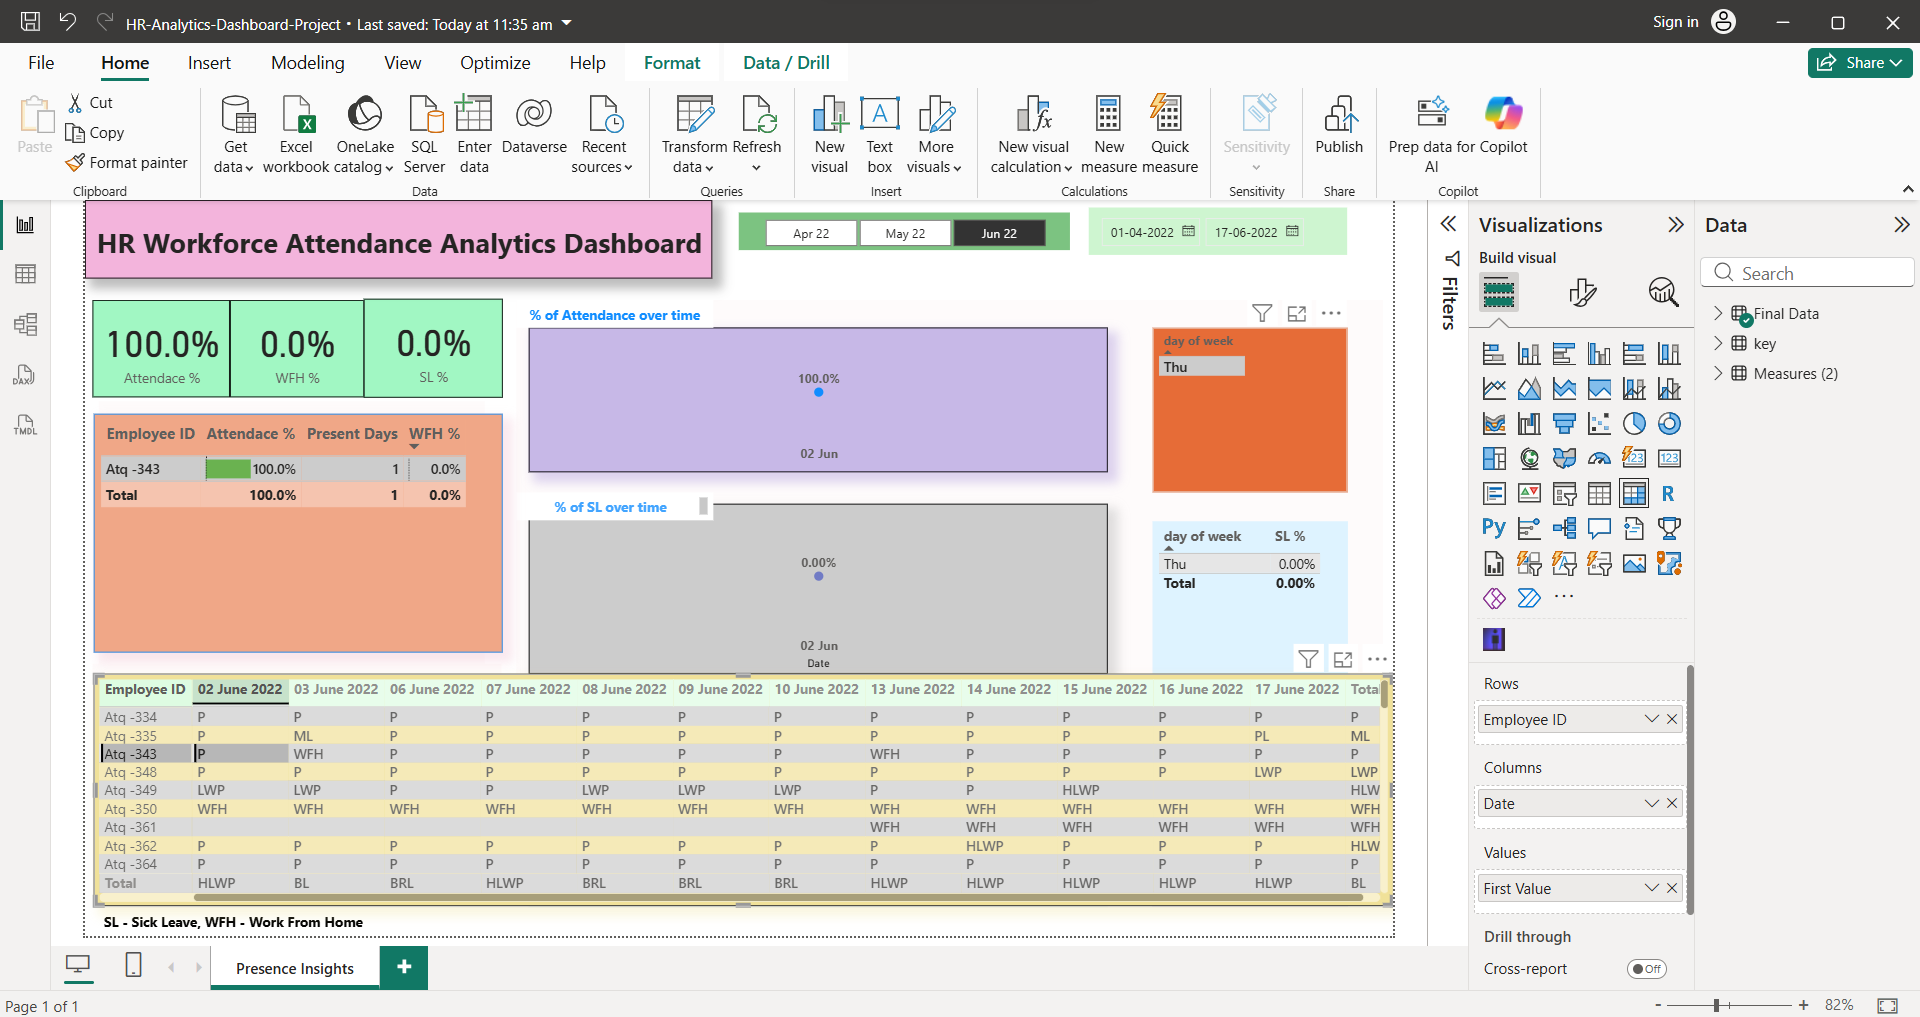

The page's visual inventory and layout, read from the dashboard file:
{"tool":"powerbi","page":{"name":"Presence Insights","canvas":[1280,720],"ordinal":0},"visuals":[{"type":"textbox","box":[13.5,196.9,377.9,256.8],"z":0},{"type":"textbox","box":[7.8,453.3,399.8,227.6],"z":1000},{"type":"textbox","box":[422.3,97.9,848.1,582.3],"z":2000},{"type":"textbox","box":[7.8,98,399.9,95.4],"z":3000},{"type":"slicer","fields":{"Values":["Final Data.Date"]},"box":[982.5,7.5,252.5,46.2],"z":4000},{"type":"slicer","fields":{"Values":["Final Data.MMM YY"]},"box":[639.5,12.2,324.1,36.7],"z":5000},{"type":"areaChart","fields":{"Category":["Final Data.MMM YY","Final Data.Date"],"Y":["Measures (2).WFH %"]},"box":[433.8,501.2,566.2,190],"z":6000},{"type":"areaChart","fields":{"Category":["Final Data.WeekNo","Final Data.Date"],"Y":["Measures (2).Attendace %"]},"box":[433.8,125,566.2,141.2],"z":7000},{"type":"card","fields":{"Values":["Measures (2).Attendace %"]},"box":[7.3,97.8,134.5,95.4],"z":8000},{"type":"card","fields":{"Values":["Measures (2).WFH %"]},"box":[141.8,97.8,130.8,95.4],"z":9000},{"type":"areaChart","fields":{"Category":["Final Data.MMM YY","Final Data.Date"],"Y":["Measures (2).SL %"]},"box":[433.8,297.5,566.2,166.2],"z":10000},{"type":"card","fields":{"Values":["Measures (2).SL %"]},"box":[272.7,96.6,135.7,96.6],"z":11000},{"type":"textbox","box":[0,0,613.9,77],"z":12000},{"type":"textbox","box":[422.4,98.2,192.5,27.5],"z":13000},{"type":"textbox","box":[422.5,286.3,192.6,26.9],"z":14000},{"type":"textbox","box":[422.1,473.7,192.6,27.2],"z":15000},{"type":"pivotTable","fields":{"Rows":["Final Data.Employee ID"],"Columns":["Final Data.Date"],"Values":["Min(Final Data.Value)"]},"box":[8.8,463.8,400,227.5],"z":16000},{"type":"textbox","box":[13.6,691.6,289.8,28.2],"z":17000},{"type":"tableEx","fields":{"Values":["Final Data.day of week"]},"box":[1043.8,125,191.2,161.2],"z":18000},{"type":"tableEx","fields":{"Values":["Final Data.day of week","Measures (2).SL %"]},"box":[1043.8,313.8,191.2,160],"z":19000},{"type":"tableEx","fields":{"Values":["Final Data.day of week","Measures (2).WFH %"]},"box":[1043.8,513.8,191.2,177.5],"z":20000},{"type":"tableEx","fields":{"Values":["Final Data.Employee ID","Measures (2).Attendace %","Measures (2).Present Days","Measures (2).WFH %"]},"box":[8.8,208.8,400,233.8],"z":21000}]}

Visuals, with their boxes on the page's 1280x720 design canvas (x1, y1, x2, y2). These are canvas units, not pixel positions in the 1920x1017 screenshot, which may show the page scaled, cropped or inside an application window:
textbox: {"x1": 14, "y1": 197, "x2": 391, "y2": 454}
textbox: {"x1": 8, "y1": 453, "x2": 408, "y2": 681}
textbox: {"x1": 422, "y1": 98, "x2": 1270, "y2": 680}
textbox: {"x1": 8, "y1": 98, "x2": 408, "y2": 193}
slicer - Final Data.Date: {"x1": 982, "y1": 8, "x2": 1235, "y2": 54}
slicer - Final Data.MMM YY: {"x1": 640, "y1": 12, "x2": 964, "y2": 49}
areaChart - Final Data.MMM YY x Final Data.Date: {"x1": 434, "y1": 501, "x2": 1000, "y2": 691}
areaChart - Final Data.WeekNo x Final Data.Date: {"x1": 434, "y1": 125, "x2": 1000, "y2": 266}
card - Measures (2).Attendace %: {"x1": 7, "y1": 98, "x2": 142, "y2": 193}
card - Measures (2).WFH %: {"x1": 142, "y1": 98, "x2": 273, "y2": 193}
areaChart - Final Data.MMM YY x Final Data.Date: {"x1": 434, "y1": 298, "x2": 1000, "y2": 464}
card - Measures (2).SL %: {"x1": 273, "y1": 97, "x2": 408, "y2": 193}
textbox: {"x1": 0, "y1": 0, "x2": 614, "y2": 77}
textbox: {"x1": 422, "y1": 98, "x2": 615, "y2": 126}
textbox: {"x1": 422, "y1": 286, "x2": 615, "y2": 313}
textbox: {"x1": 422, "y1": 474, "x2": 615, "y2": 501}
pivotTable - Final Data.Employee ID x Final Data.Date: {"x1": 9, "y1": 464, "x2": 409, "y2": 691}
textbox: {"x1": 14, "y1": 692, "x2": 303, "y2": 720}
tableEx - Final Data.day of week: {"x1": 1044, "y1": 125, "x2": 1235, "y2": 286}
tableEx - Final Data.day of week x Measures (2).SL %: {"x1": 1044, "y1": 314, "x2": 1235, "y2": 474}
tableEx - Final Data.day of week x Measures (2).WFH %: {"x1": 1044, "y1": 514, "x2": 1235, "y2": 691}
tableEx - Final Data.Employee ID x Measures (2).Attendace %: {"x1": 9, "y1": 209, "x2": 409, "y2": 443}
